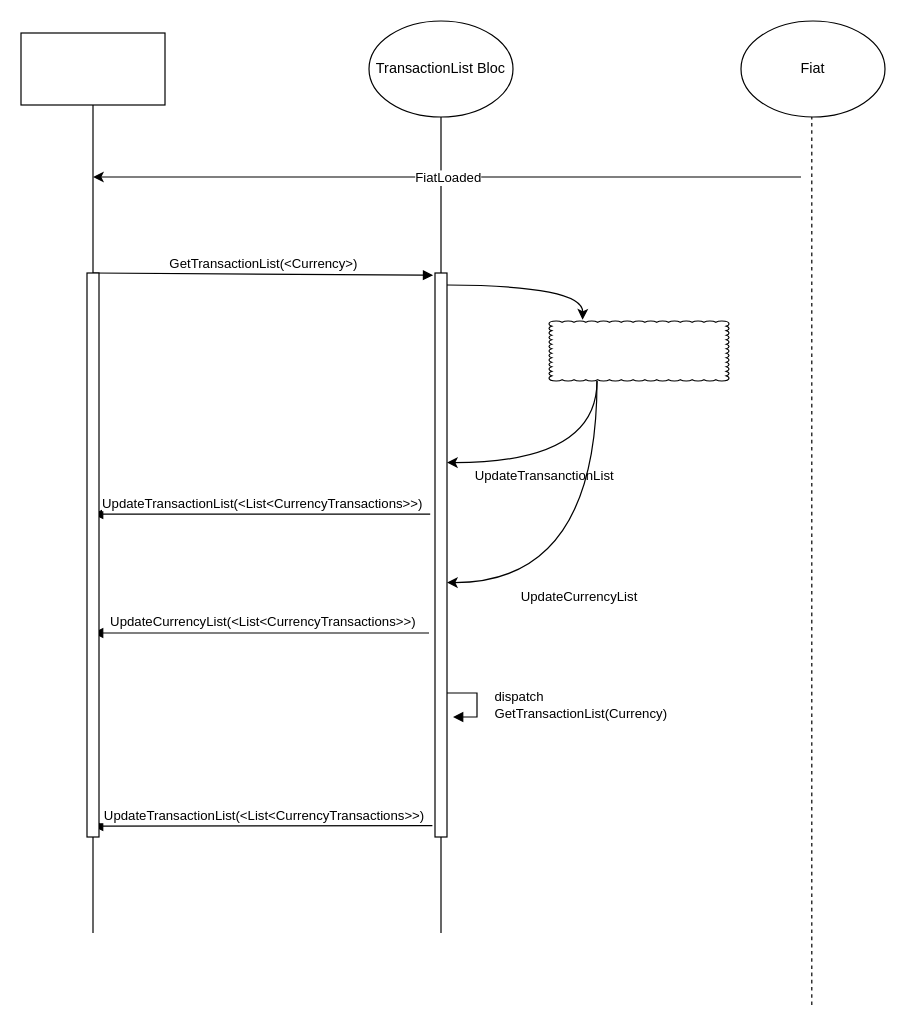
The diagram is 906 pixels wide and 1027 high, and some of its shapes have lost their labels. The centre of each missing label's shape, as x and y in pixels:
Listener: [638,350]
TransactionList Screen: [92,68]
